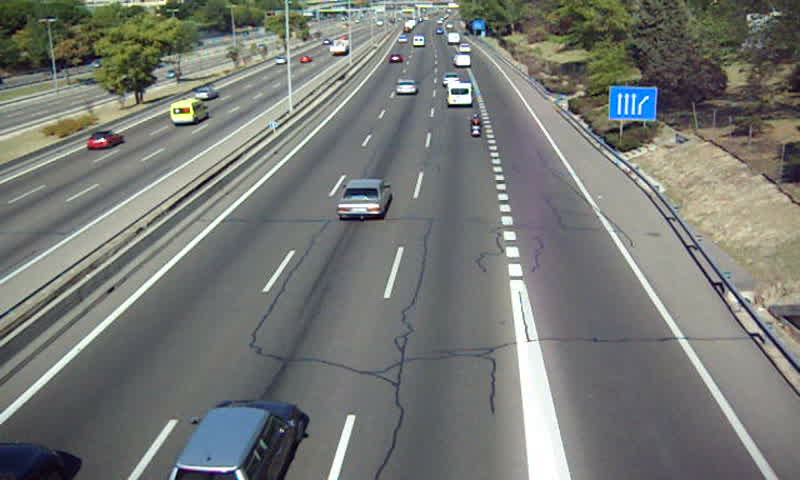car: (168, 401, 299, 480), (337, 178, 390, 218), (394, 79, 417, 96), (442, 72, 460, 86)
motorcycle: (470, 113, 483, 137)
van: (447, 82, 472, 107), (453, 54, 472, 68)
